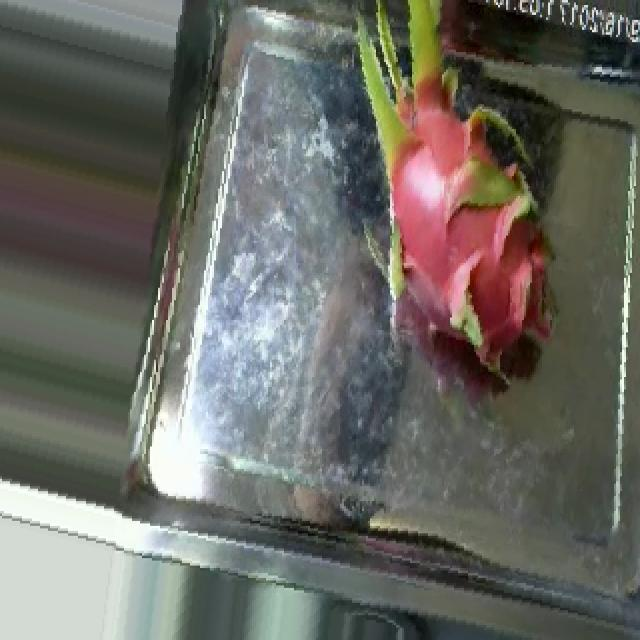fruit: (324, 0, 612, 399)
